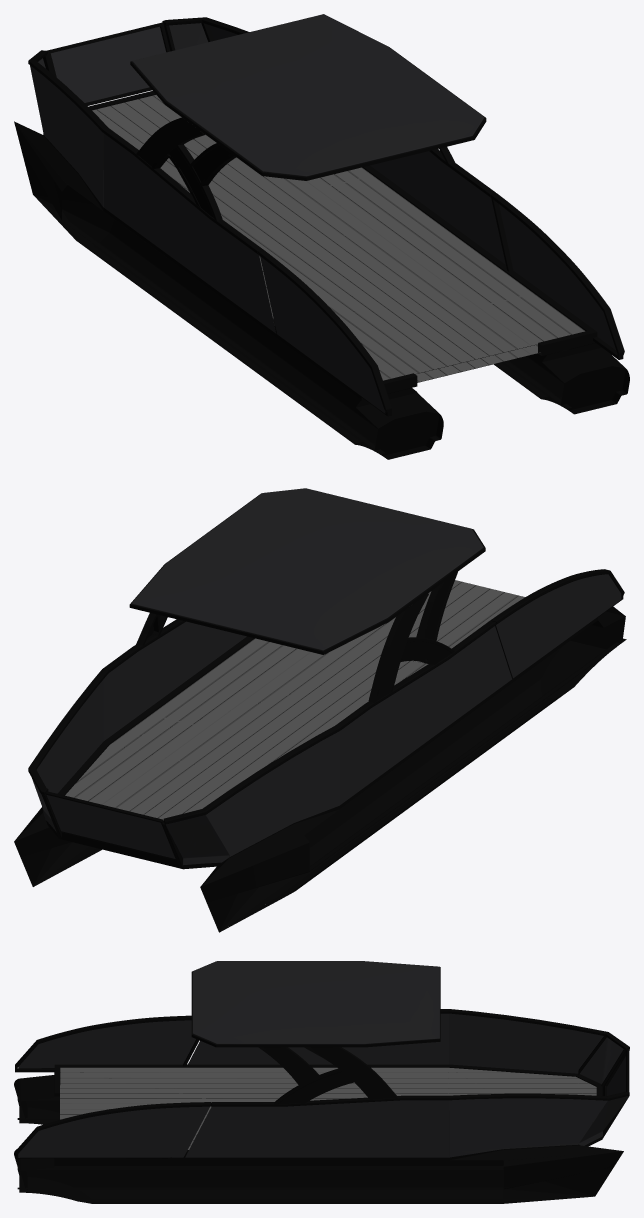
The picture shows the model from 3 angles, top to bottom: view 1: azimuth 30°, elevation 25°; view 2: azimuth 150°, elevation 25°; view 3: azimuth 270°, elevation 25°; orthographic projection. The views are drawn at different scales.
Visible parts, largest first — view 1: Plane.025, Plane.027, Plane.016, Plane.018, Plane.003, Object.023, Object.024, Plane.023, Plane.006, Plane.017, Object.029, Object.014 (+19 smaller); view 2: Plane.027, Plane.025, Plane.016, Plane.017, Plane.003, Plane.018, Object.023, Object.024, Plane.023, Object.029, Plane.004, Object.041 (+17 smaller); view 3: Plane.027, Plane.025, Plane.003, Plane.004, Object.002, Object.003, Plane.006, Plane.017, Plane.018, Object.007, Plane.016, Object.019 (+20 smaller).
Part boxes in pixels (box(x1,y1,x2,y2)): Plane.025: box(92, 95, 585, 380); Plane.027: box(132, 14, 484, 176); Plane.016: box(103, 133, 275, 333); Plane.018: box(260, 256, 385, 413); Plane.003: box(370, 151, 505, 264); Object.023: box(170, 297, 328, 403); Object.024: box(63, 219, 221, 324); Plane.023: box(50, 26, 166, 102); Plane.006: box(499, 204, 616, 350); Plane.017: box(30, 65, 103, 206); Object.029: box(278, 376, 443, 454); Object.014: box(362, 165, 597, 355); Plane.027: box(131, 488, 483, 650); Plane.025: box(65, 580, 525, 820); Plane.016: box(339, 626, 511, 805); Plane.017: box(206, 731, 339, 856); Plane.003: box(103, 621, 246, 740); Plane.018: box(496, 574, 621, 678); Object.023: box(365, 712, 523, 817); Object.024: box(265, 790, 415, 896); Plane.023: box(46, 795, 175, 858); Object.029: box(473, 638, 626, 739); Plane.004: box(36, 679, 103, 793); Object.041: box(200, 835, 309, 902); Plane.027: box(192, 961, 439, 1044); Plane.025: box(60, 1067, 596, 1149); Plane.003: box(185, 1100, 449, 1157); Plane.004: box(449, 1098, 607, 1157); Object.002: box(175, 1160, 339, 1203); Object.003: box(339, 1160, 503, 1203); Plane.006: box(18, 1106, 209, 1157); Plane.017: box(449, 1013, 603, 1073); Plane.018: box(18, 1020, 195, 1068); Object.007: box(14, 1149, 174, 1203); Plane.016: box(188, 1013, 448, 1064); Object.019: box(503, 1151, 623, 1189).
Bounding box in the file's own units: 3.99 × 3.36 × 11.24.
Materials: 6 (1 with a texture image).
